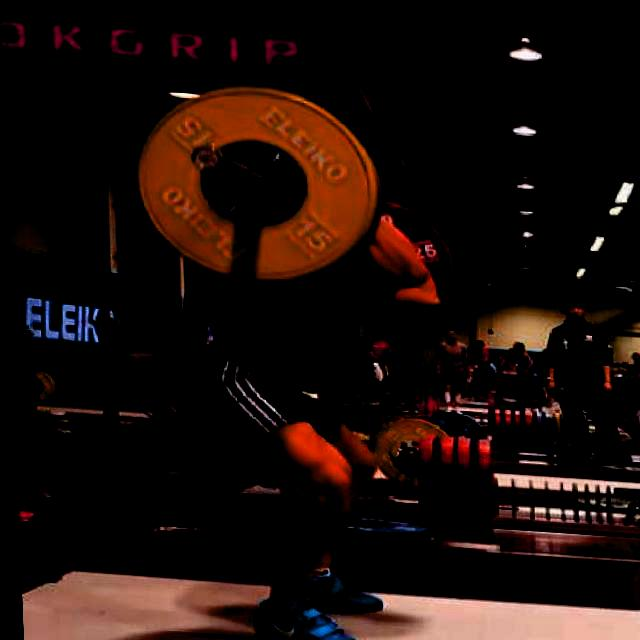barbell: (126, 70, 385, 295)
